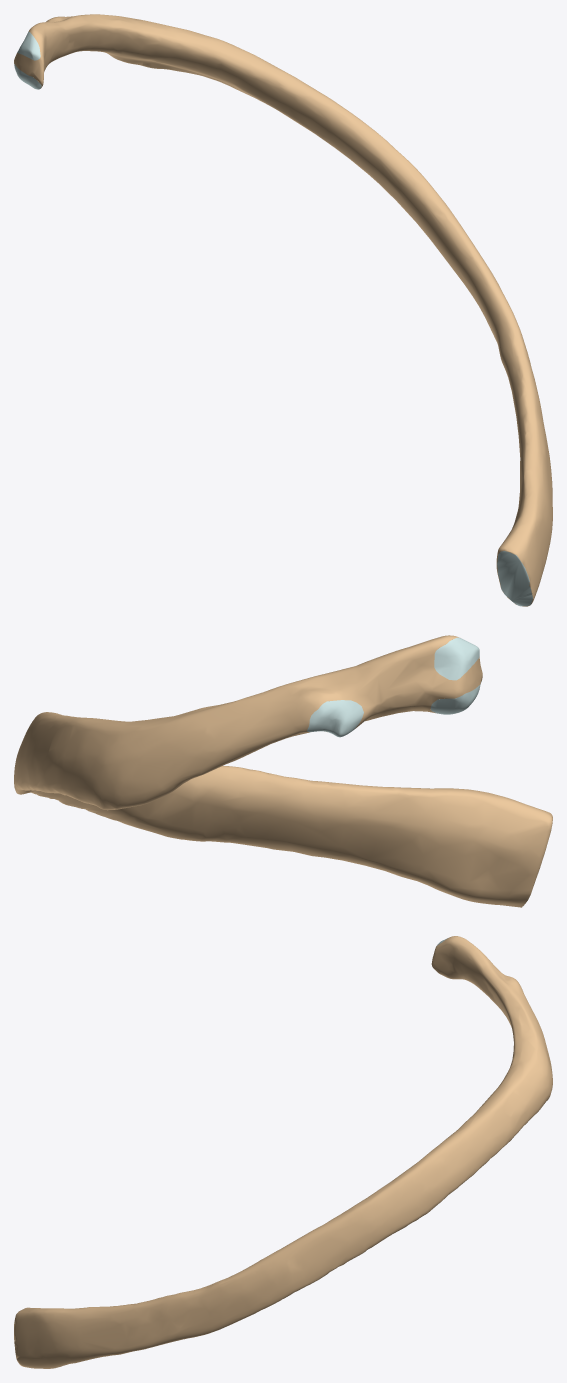
File: 6th_rib.l_Generated_Mesh_From_X3D.876.glb
3 renders of one model, top to bottom at view 1: azimuth 30°, elevation 25°; view 2: azimuth 150°, elevation 25°; view 3: azimuth 270°, elevation 25°, orthographic. The views are drawn at different scales.
Visible parts, largest first — view 1: 6th_rib.l_Generated_Mesh_From_X3D.876; view 2: 6th_rib.l_Generated_Mesh_From_X3D.876; view 3: 6th_rib.l_Generated_Mesh_From_X3D.876.
Part boxes in pixels (x1,y1,x2,y2): 6th_rib.l_Generated_Mesh_From_X3D.876: (14, 14, 552, 606); 6th_rib.l_Generated_Mesh_From_X3D.876: (14, 635, 552, 907); 6th_rib.l_Generated_Mesh_From_X3D.876: (14, 936, 552, 1368).
Size of the model in its own units: 0.1231 by 0.1386 by 0.1962.
